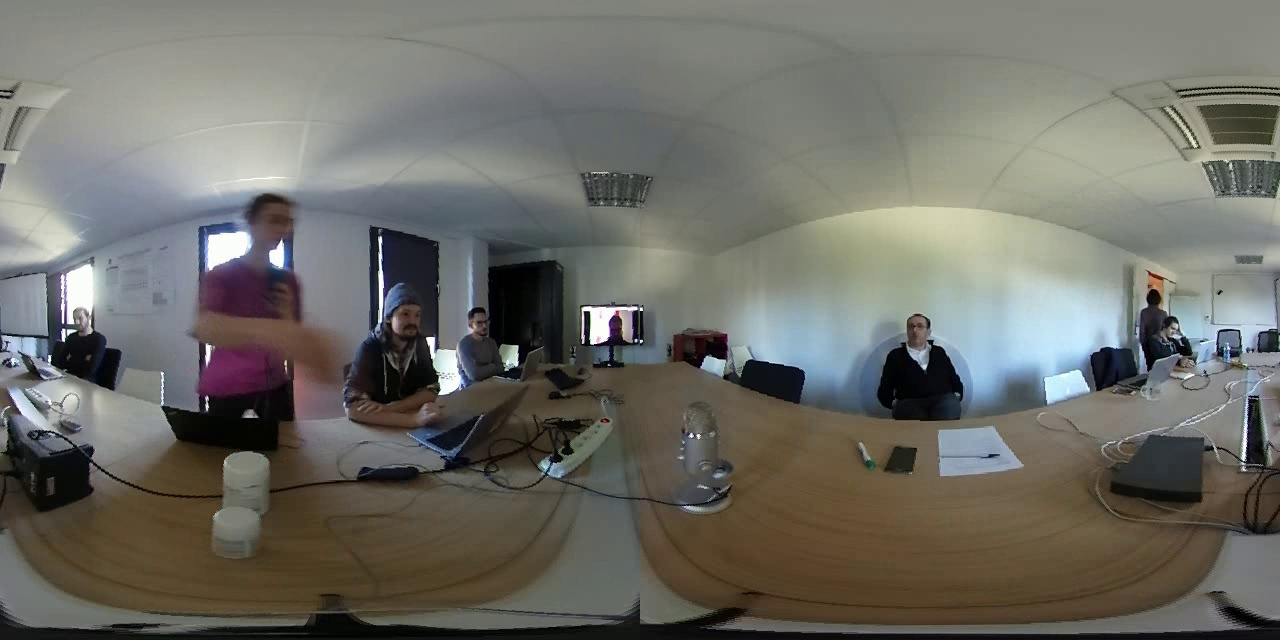person: (174, 170, 308, 422), (338, 279, 444, 413), (873, 307, 973, 421), (450, 301, 528, 377), (53, 298, 116, 377), (580, 303, 638, 344), (1150, 315, 1195, 361), (1137, 282, 1173, 327)
